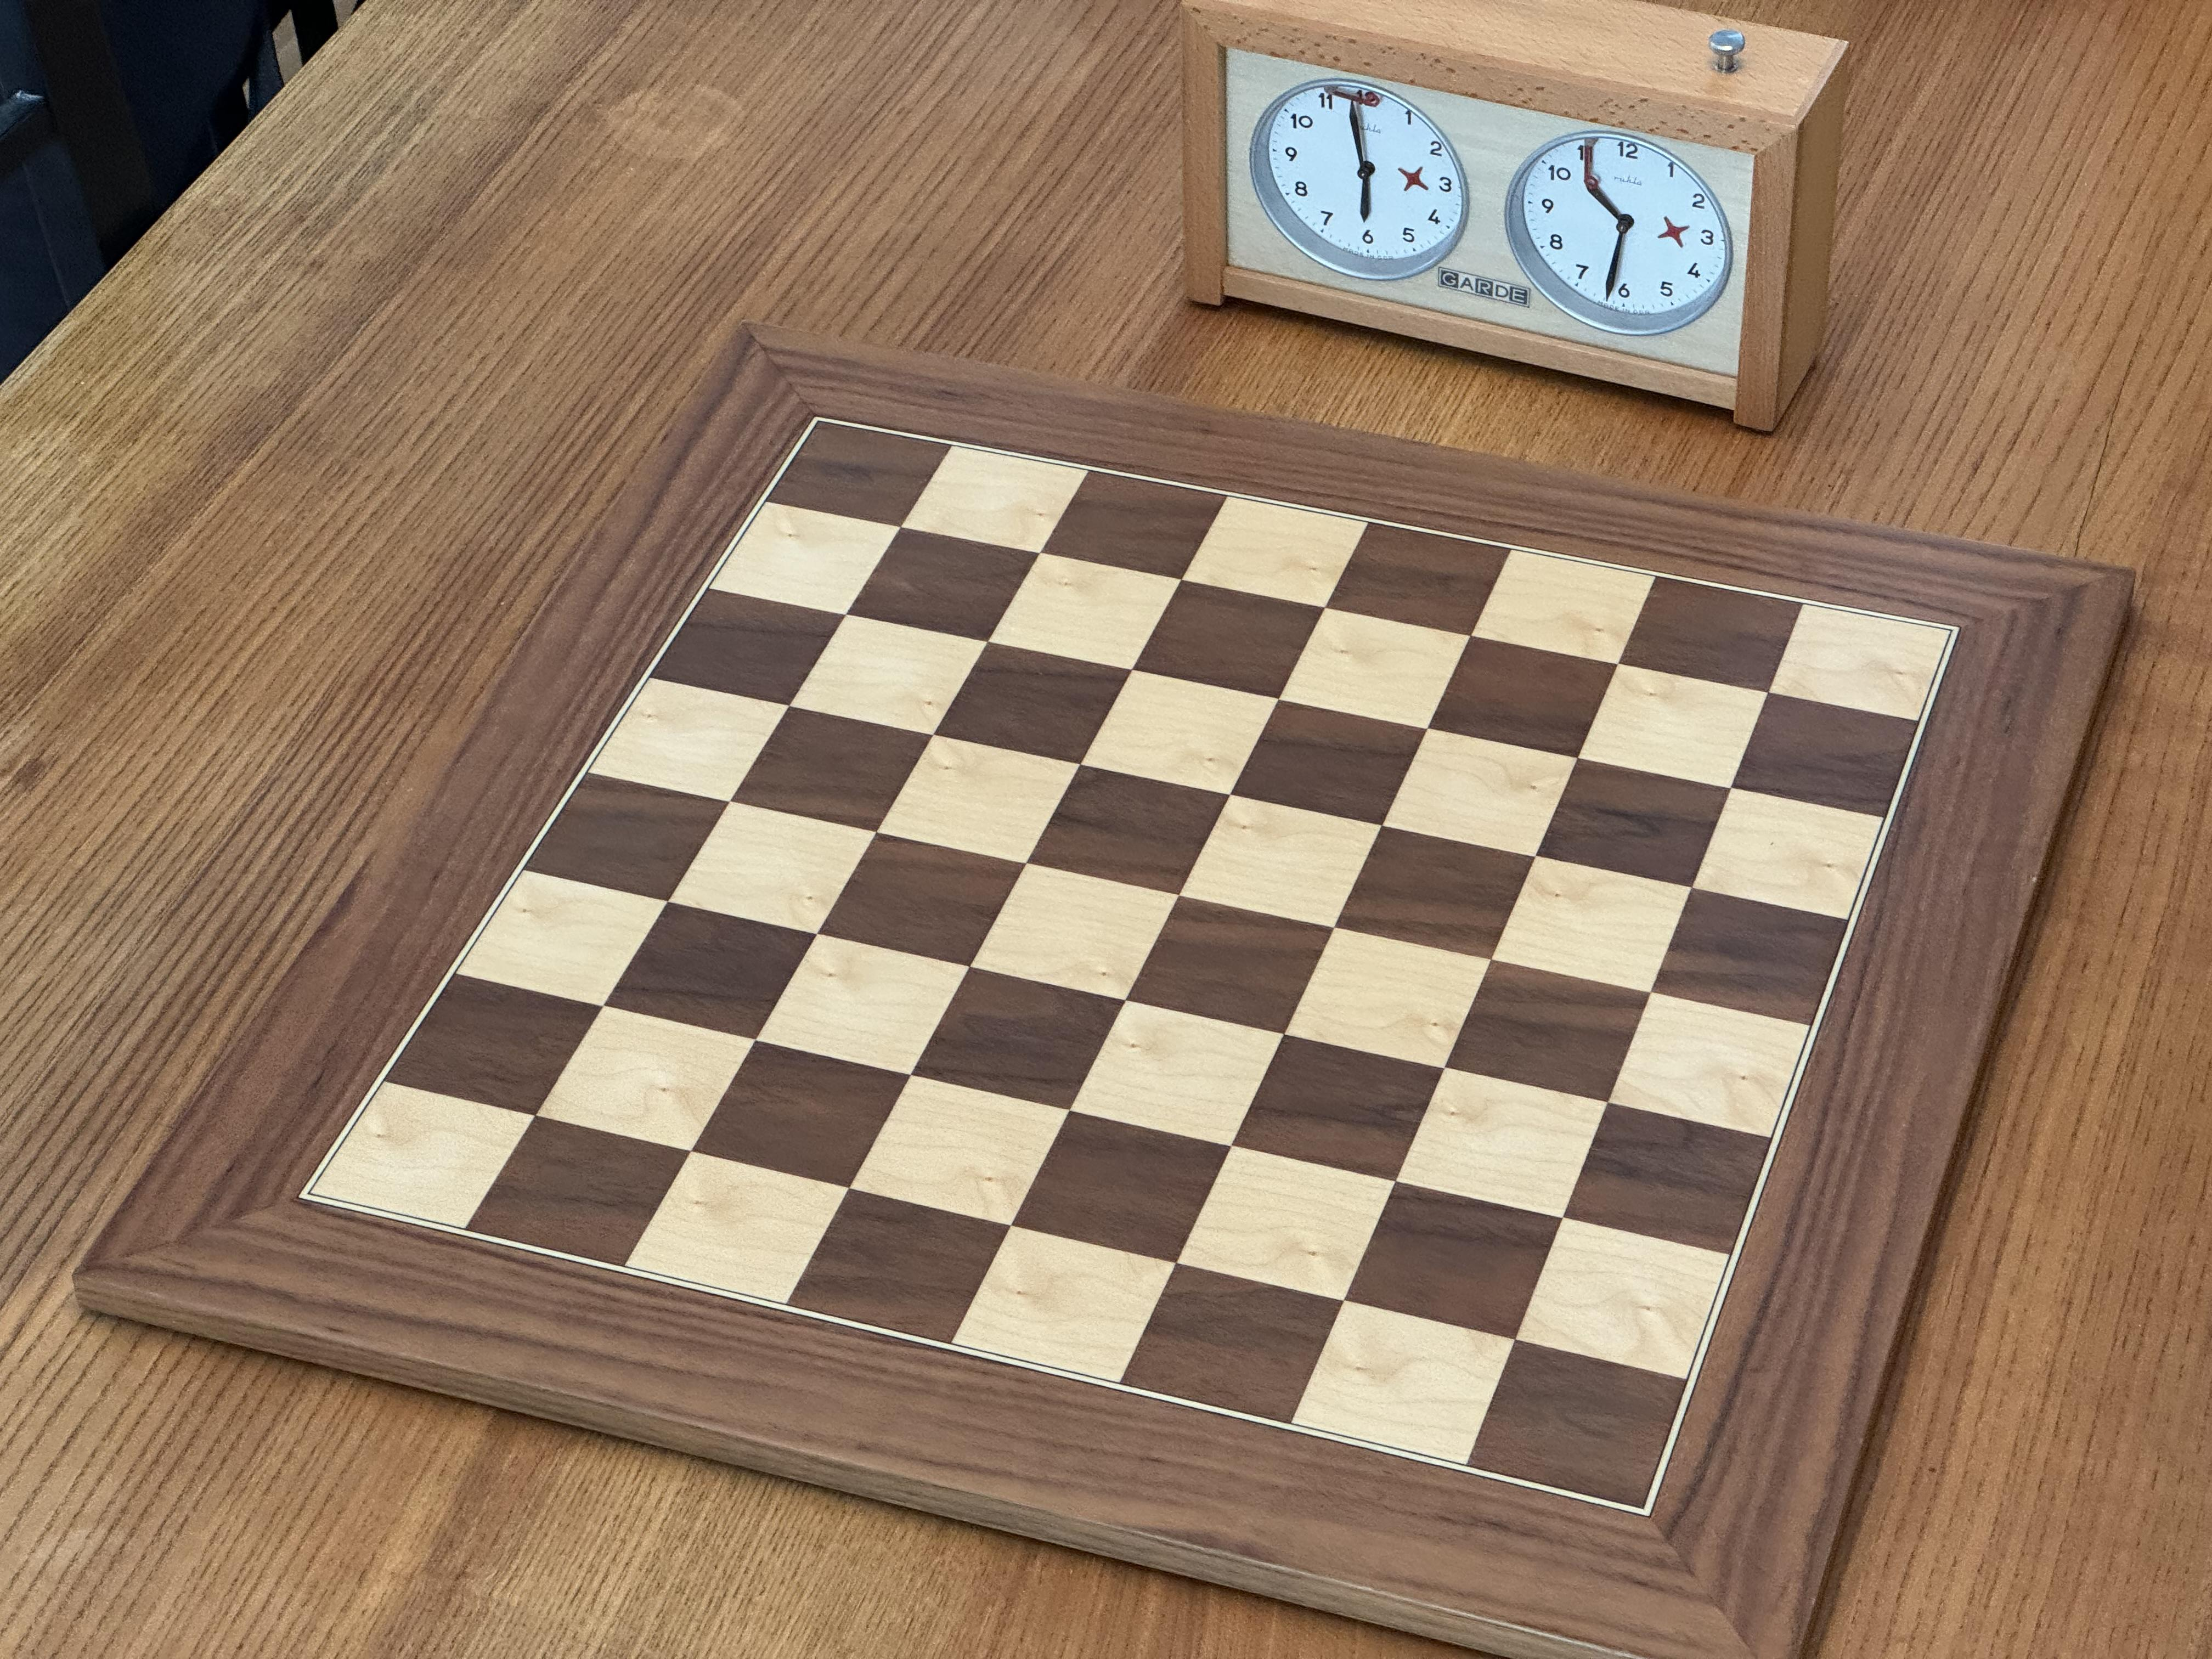corner A: (216, 1115, 385, 1283)
corner B: (1552, 1425, 1740, 1612)
corner C: (1867, 547, 2031, 716)
